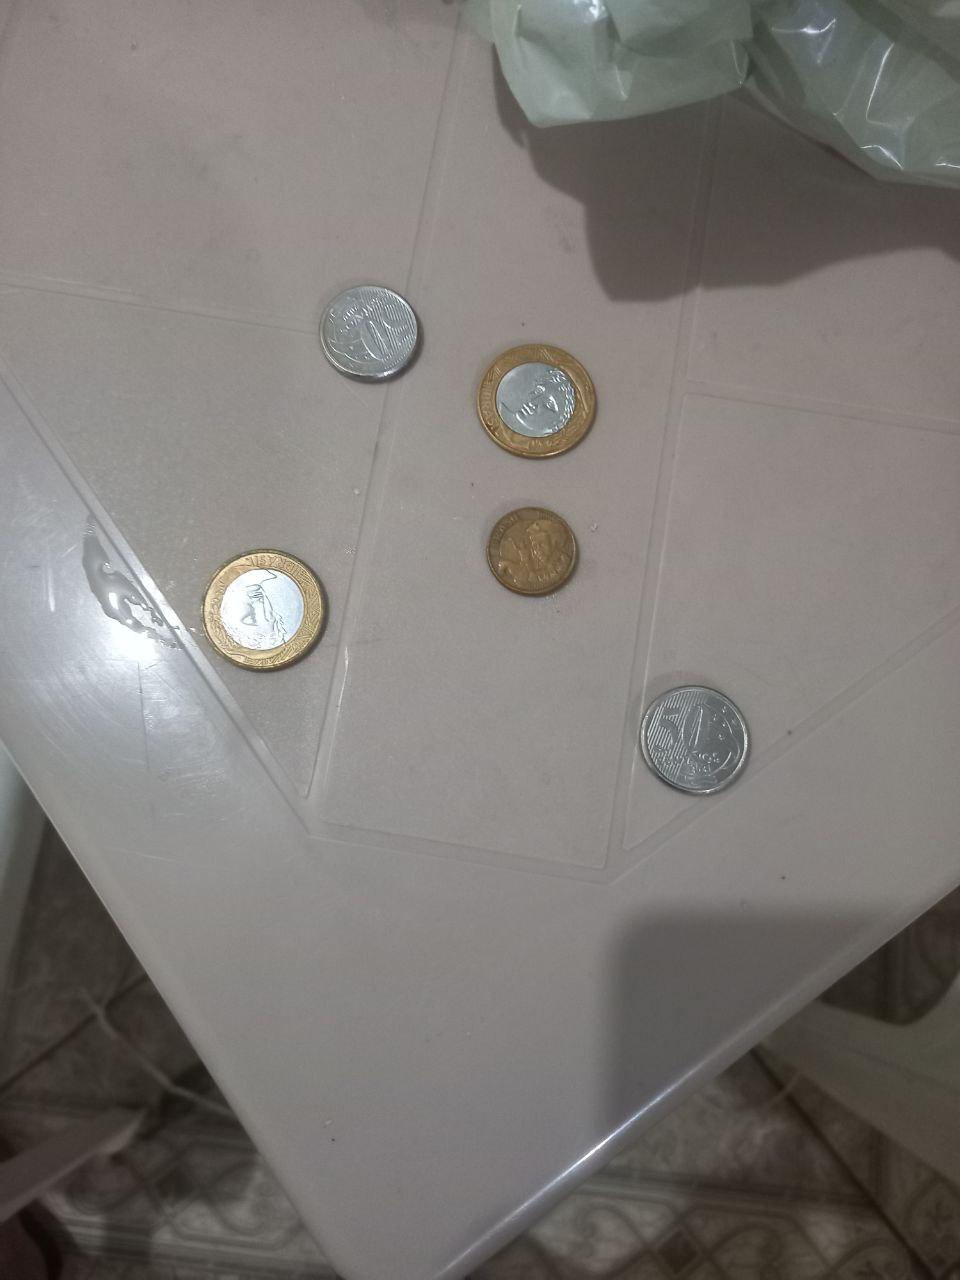1 real: (200, 547, 327, 671), (475, 342, 599, 460)
10 cent: (484, 506, 582, 600)
25 cent: (638, 684, 753, 796), (318, 285, 423, 384)
